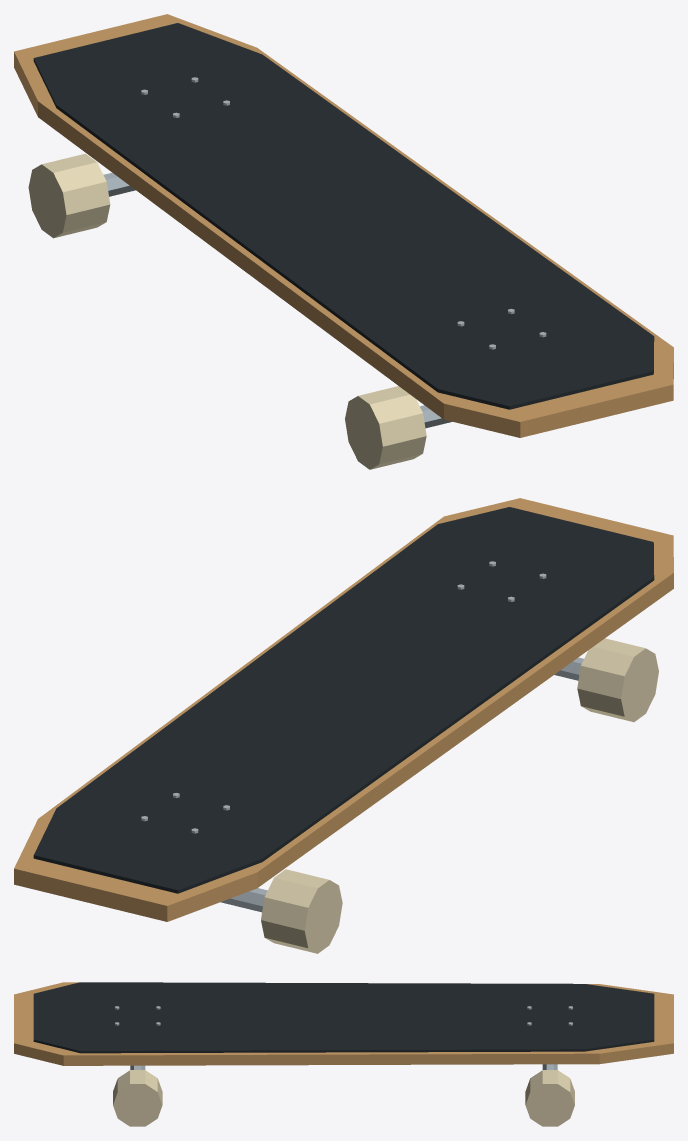
File: b17_street_skateboard.glb
3 renders of one model, top to bottom at view 1: azimuth 30°, elevation 25°; view 2: azimuth 150°, elevation 25°; view 3: azimuth 270°, elevation 25°, orthographic. The views are drawn at different scales.
Parts seen in each view (by area): view 1: b17_street_skateboard; view 2: b17_street_skateboard; view 3: b17_street_skateboard.
Part boxes in pixels (x1,y1,x2,y2): b17_street_skateboard: (14,14,673,469); b17_street_skateboard: (14,498,673,953); b17_street_skateboard: (14,982,673,1126).
Bounding box in the file's own units: 0.252 × 0.0905 × 0.8.
